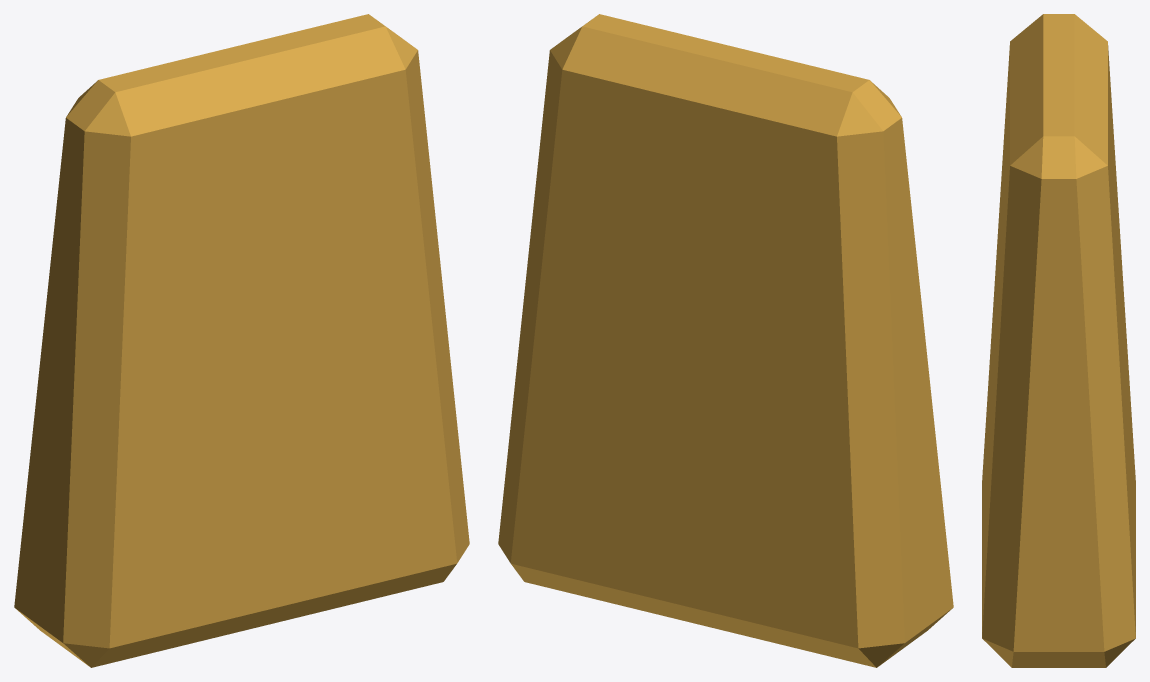
File: crackers.glb
3 views of the same model, side by side, from view 1: azimuth 30°, elevation 25°; view 2: azimuth 150°, elevation 25°; view 3: azimuth 270°, elevation 25° (orthographic). The views are drawn at different scales.
Parts seen in each view (by area): view 1: Item; view 2: Item; view 3: Item.
Part boxes in pixels (bbox=[...]): Item: bbox=[14, 14, 469, 667]; Item: bbox=[498, 14, 953, 667]; Item: bbox=[982, 14, 1135, 667].
Bounding box in the file's own units: 0.1384 × 0.18 × 0.0489.
